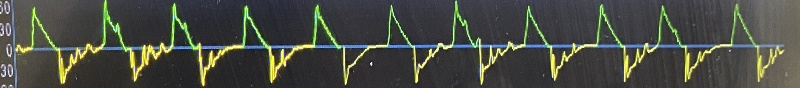hydrop_flow: (14, 0, 800, 88)
